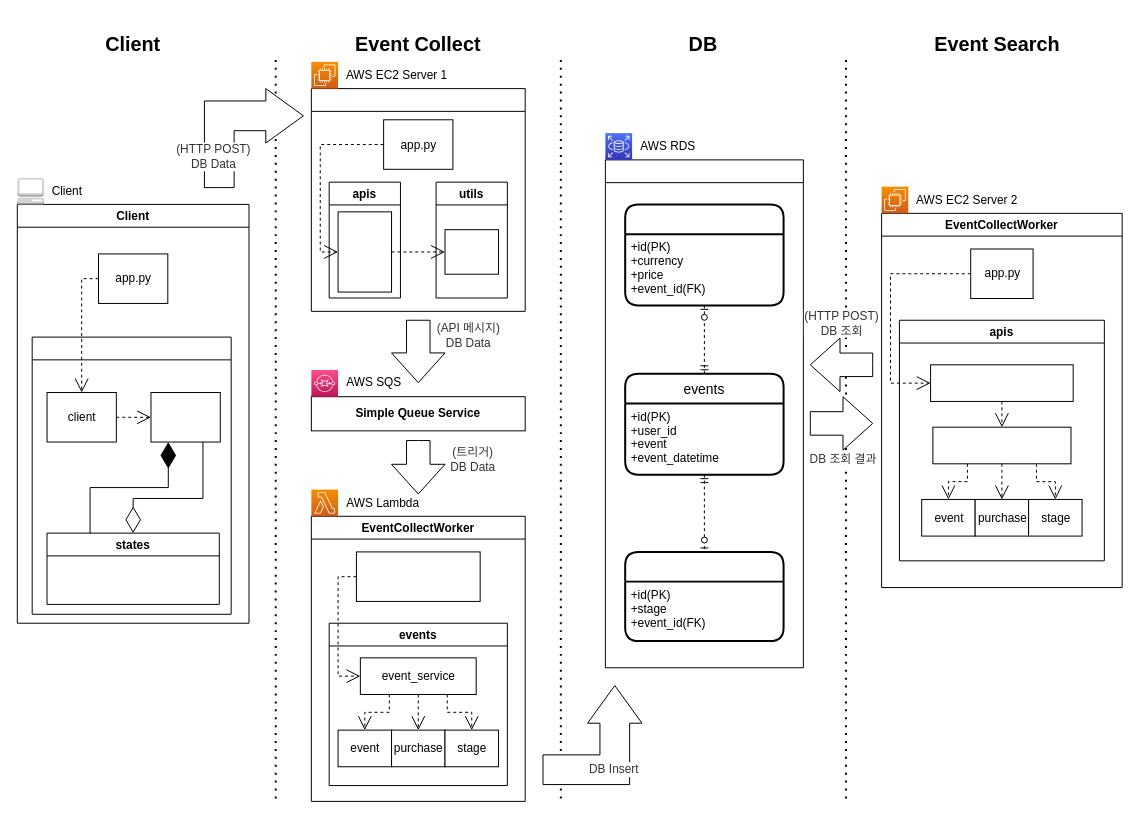
Some shapes in this 1139 by 819 pixel diagram are drawn without their labels. The shapes that lost their labels are listed below. From the top down, each one's box as (x1, y1, x2, y2) in pixels, then its label:
(310, 88, 525, 311): EventCollectAPI
(337, 211, 392, 292): event_ collect_ controller
(444, 229, 498, 274): sqs
(624, 203, 784, 306): purchases
(930, 364, 1073, 401): event_search_controller
(150, 392, 220, 442): user
(604, 159, 803, 668): mini_adbrix_db
(932, 426, 1071, 464): event_search_service
(31, 336, 231, 614): app
(355, 551, 480, 601): lambda_function.py
(624, 550, 784, 642): stages
